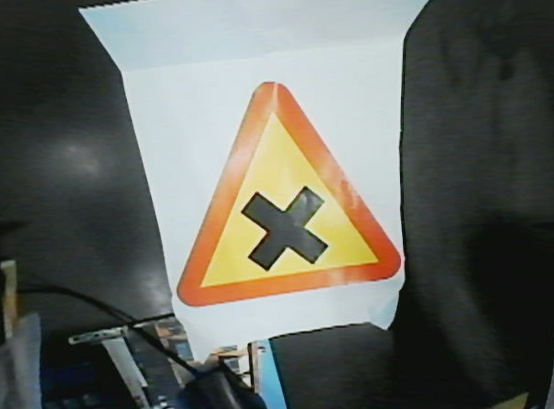junction: (162, 79, 444, 349)
